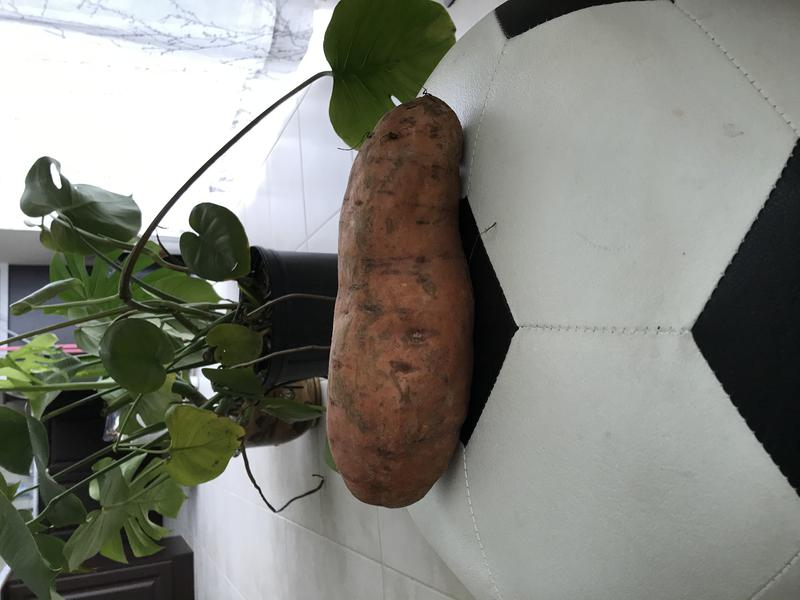sweet_potato: (313, 80, 487, 517)
